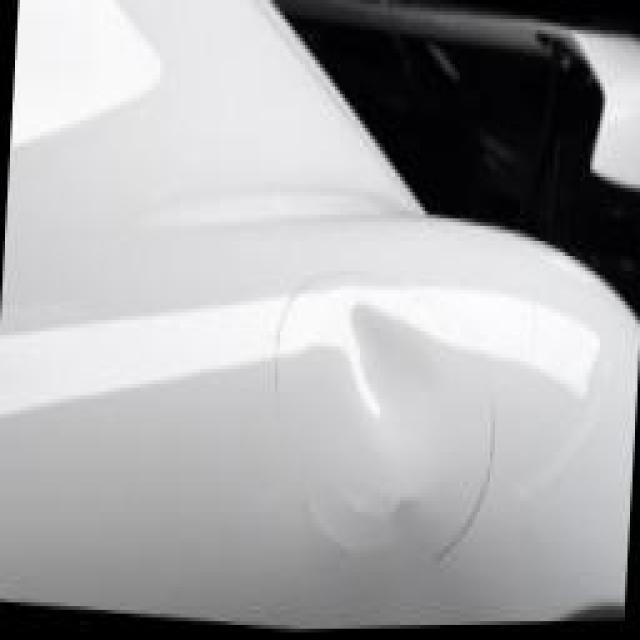Fender: (252, 222, 520, 598)
